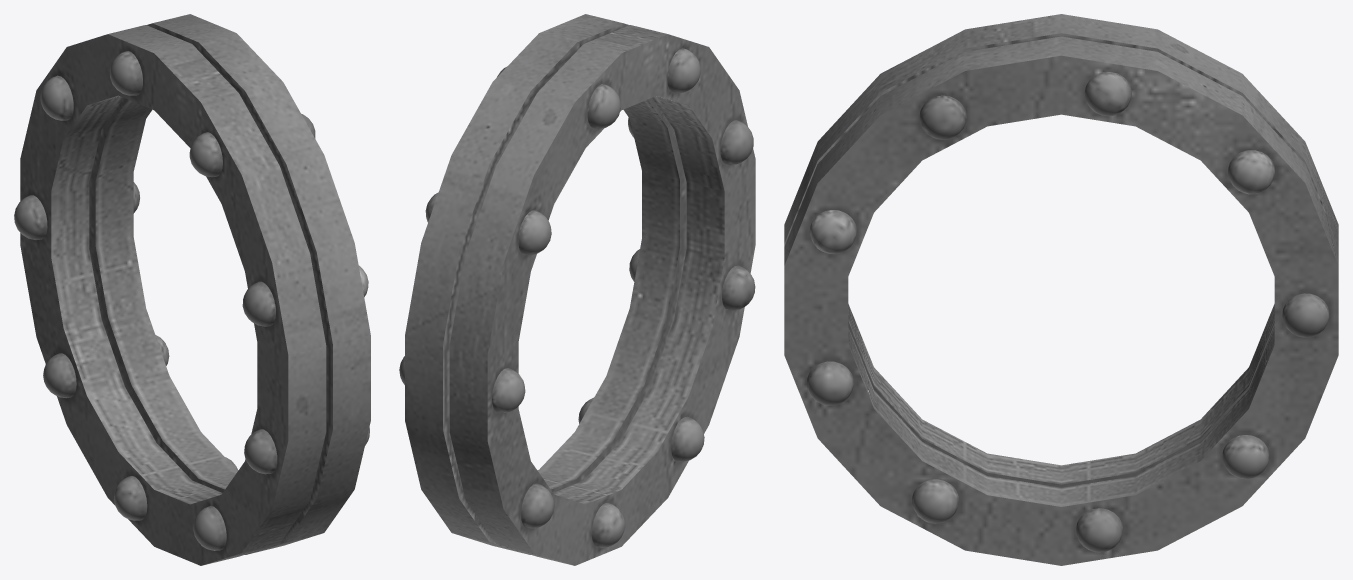
The model's file is pipe15.FBX.
3 renders of one model, left to right at view 1: azimuth 30°, elevation 25°; view 2: azimuth 150°, elevation 25°; view 3: azimuth 270°, elevation 25°, orthographic. The views are drawn at different scales.
Parts seen in each view (by area): view 1: pipe15; view 2: pipe15; view 3: pipe15.
Boxes of the visible parts, box(x1,y1,x2,y2) form: pipe15: box(14, 14, 370, 565); pipe15: box(399, 14, 755, 565); pipe15: box(784, 14, 1338, 565).
Size of the model in its own units: 3.72 by 14.62 by 14.4.
